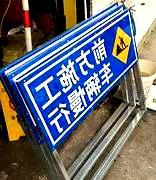sign: (33, 21, 127, 135)
